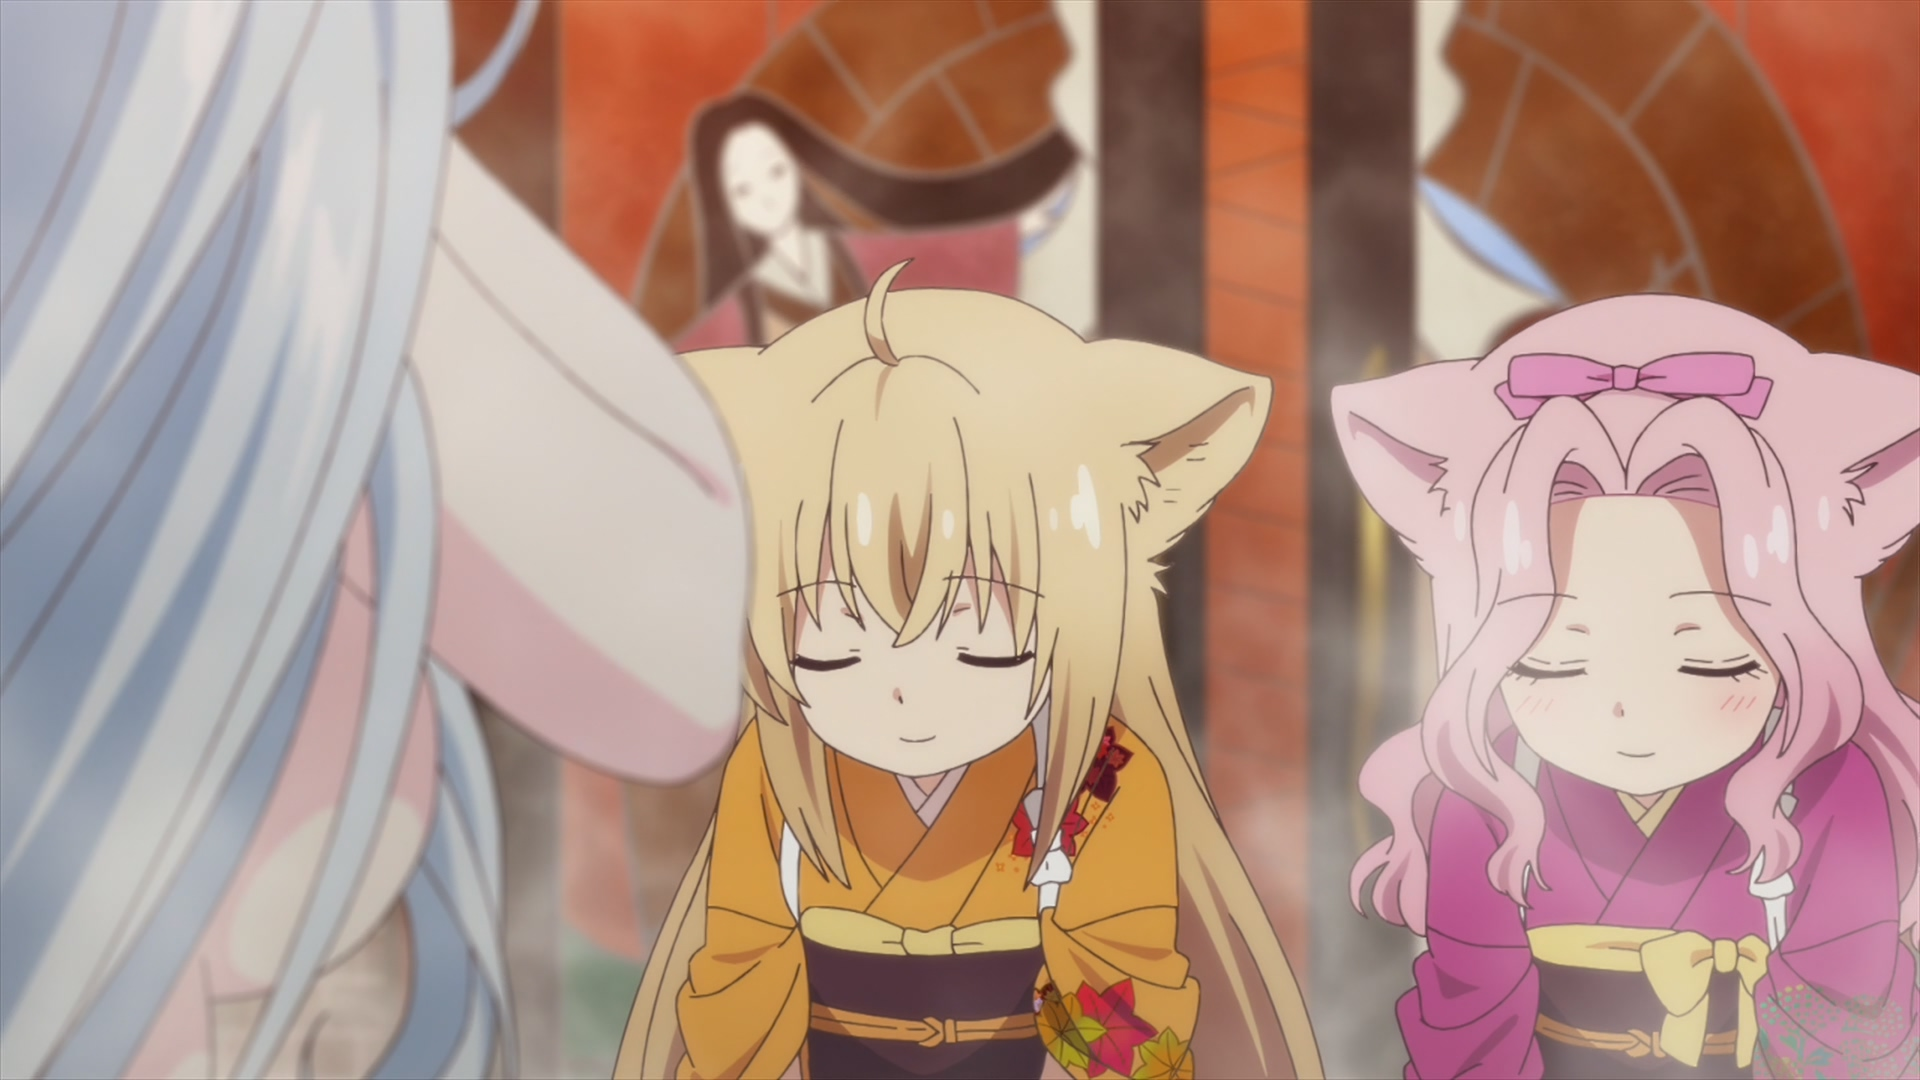其他: (1, 1, 753, 1080)
柚: (613, 258, 1327, 1080)
莲: (1331, 295, 1920, 1080)
